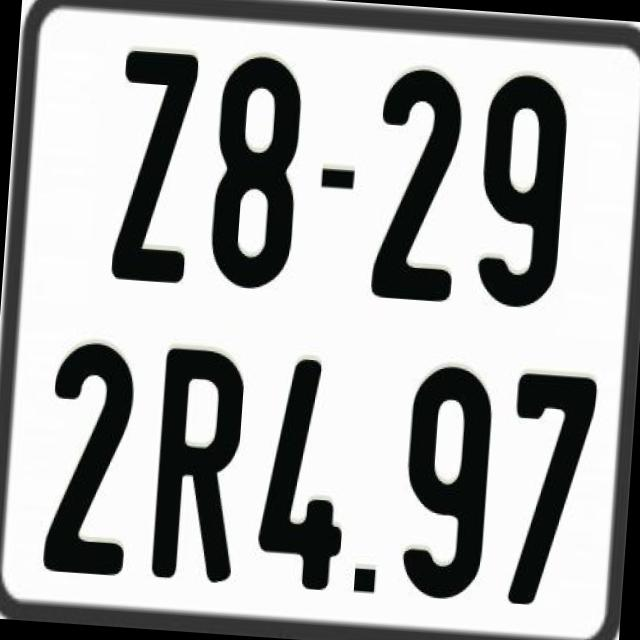2: (369, 65, 474, 308), (41, 336, 143, 572)
4: (252, 356, 353, 594)
7: (498, 369, 600, 614)
8: (204, 50, 306, 290)
9: (470, 70, 572, 312), (394, 362, 493, 604)
R: (150, 344, 250, 582)
Z: (106, 46, 194, 290)
